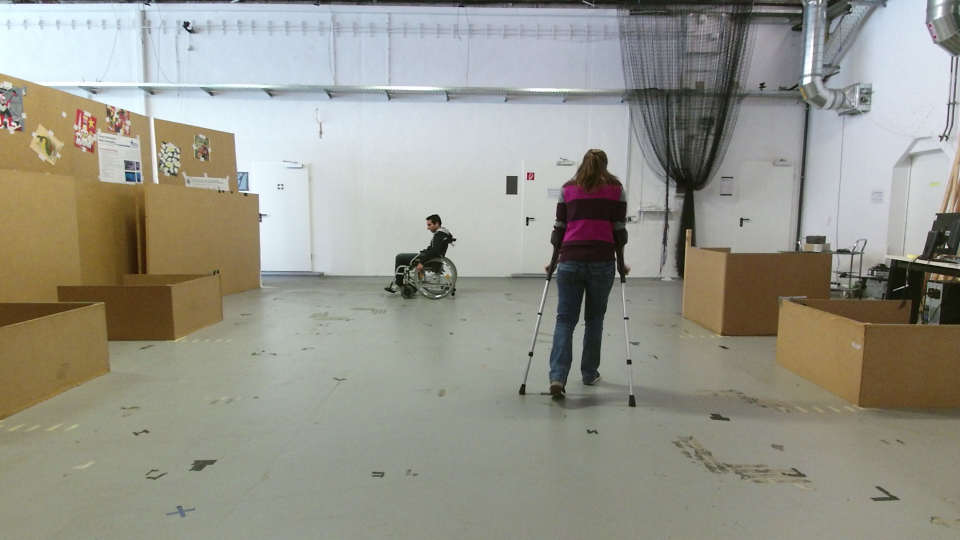crutches: (512, 142, 637, 411)
wheelchair: (378, 209, 460, 300)
